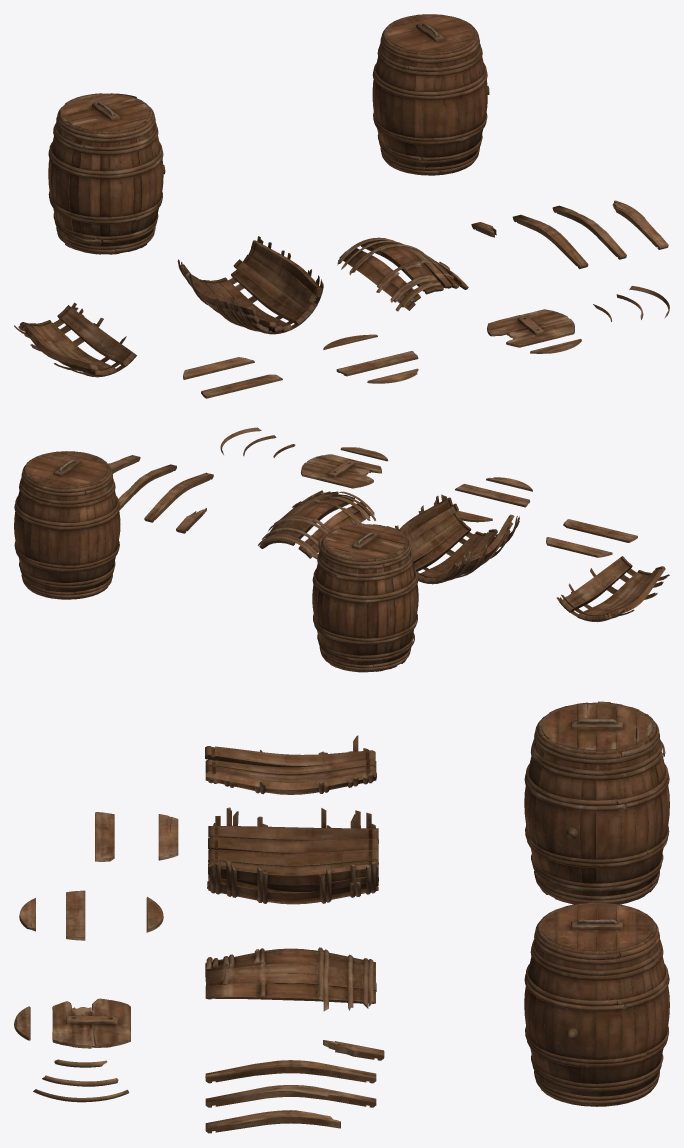
Rendered from wooden_barrels_01.glb.
3 views of the same model, one above another, from view 1: azimuth 30°, elevation 25°; view 2: azimuth 150°, elevation 25°; view 3: azimuth 270°, elevation 25° (orthographic). The views are drawn at different scales.
Visible parts, largest first — view 1: wooden_barrels_01_barrel02, wooden_barrels_01_barrel01, wooden_barrels_01_piece01, wooden_barrels_01_piece03, wooden_barrels_01_piece02, wooden_barrels_01_piece08, wooden_barrels_01_piece04, wooden_barrels_01_piece05, wooden_barrels_01_piece06, wooden_barrels_01_piece11, wooden_barrels_01_piece14, wooden_barrels_01_piece13; view 2: wooden_barrels_01_barrel02, wooden_barrels_01_barrel01, wooden_barrels_01_piece01, wooden_barrels_01_piece03, wooden_barrels_01_piece02, wooden_barrels_01_piece08, wooden_barrels_01_piece04, wooden_barrels_01_piece14, wooden_barrels_01_piece11, wooden_barrels_01_piece05, wooden_barrels_01_piece13; view 3: wooden_barrels_01_barrel01, wooden_barrels_01_barrel02, wooden_barrels_01_piece01, wooden_barrels_01_piece03, wooden_barrels_01_piece02, wooden_barrels_01_piece08, wooden_barrels_01_piece04, wooden_barrels_01_piece05, wooden_barrels_01_piece06, wooden_barrels_01_piece11, wooden_barrels_01_piece14, wooden_barrels_01_piece13 (+1 smaller).
Boxes of the visible parts, box(x1,y1,x2,y2) form: wooden_barrels_01_barrel02: box(48, 93, 165, 254); wooden_barrels_01_barrel01: box(372, 14, 489, 175); wooden_barrels_01_piece01: box(177, 236, 323, 334); wooden_barrels_01_piece03: box(337, 237, 468, 311); wooden_barrels_01_piece02: box(14, 302, 136, 377); wooden_barrels_01_piece08: box(487, 309, 574, 347); wooden_barrels_01_piece04: box(512, 214, 588, 268); wooden_barrels_01_piece05: box(552, 205, 626, 259); wooden_barrels_01_piece06: box(612, 200, 668, 249); wooden_barrels_01_piece11: box(336, 351, 418, 376); wooden_barrels_01_piece14: box(201, 374, 282, 398); wooden_barrels_01_piece13: box(183, 357, 254, 379); wooden_barrels_01_barrel02: box(312, 523, 418, 672); wooden_barrels_01_barrel01: box(14, 451, 120, 599); wooden_barrels_01_piece01: box(395, 494, 519, 584); wooden_barrels_01_piece03: box(258, 490, 375, 558); wooden_barrels_01_piece02: box(556, 556, 669, 622); wooden_barrels_01_piece08: box(301, 454, 381, 488); wooden_barrels_01_piece04: box(144, 472, 213, 522); wooden_barrels_01_piece14: box(563, 519, 637, 542); wooden_barrels_01_piece11: box(455, 484, 529, 507); wooden_barrels_01_piece05: box(118, 464, 176, 510); wooden_barrels_01_piece13: box(546, 537, 612, 557); wooden_barrels_01_barrel01: box(524, 902, 669, 1106); wooden_barrels_01_barrel02: box(524, 701, 669, 904); wooden_barrels_01_piece01: box(207, 807, 378, 904); wooden_barrels_01_piece03: box(205, 947, 376, 1011); wooden_barrels_01_piece02: box(205, 735, 376, 794); wooden_barrels_01_piece08: box(52, 998, 130, 1048); wooden_barrels_01_piece04: box(205, 1060, 376, 1083); wooden_barrels_01_piece05: box(205, 1085, 376, 1107); wooden_barrels_01_piece06: box(205, 1110, 340, 1133); wooden_barrels_01_piece11: box(66, 890, 85, 940); wooden_barrels_01_piece14: box(95, 812, 114, 861); wooden_barrels_01_piece13: box(158, 814, 178, 860).
Size of the model in its own units: 4.44 by 0.9555 by 3.34.
3 materials, 3 textured.
